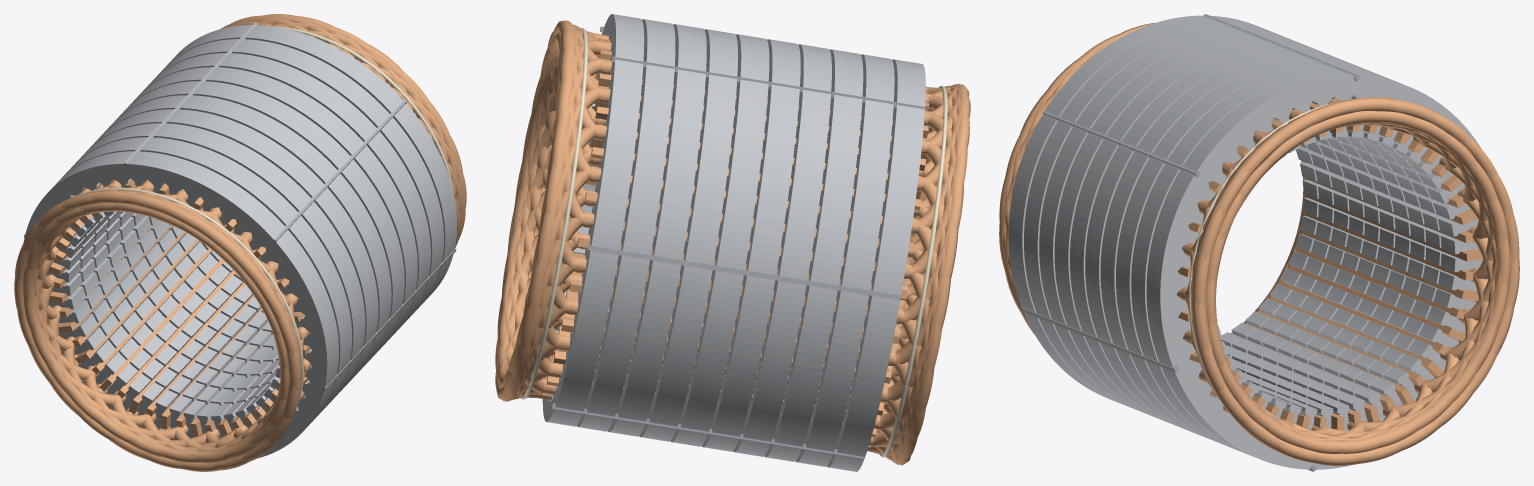
Rendered from sync_statorAsm.glb.
The picture shows the model from 3 angles, left to right: view 1: azimuth 30°, elevation 25°; view 2: azimuth 150°, elevation 25°; view 3: azimuth 270°, elevation 25°; orthographic projection. The views are drawn at different scales.
Bounding box in the file's own units: 1.39 × 1.16 × 1.35.
